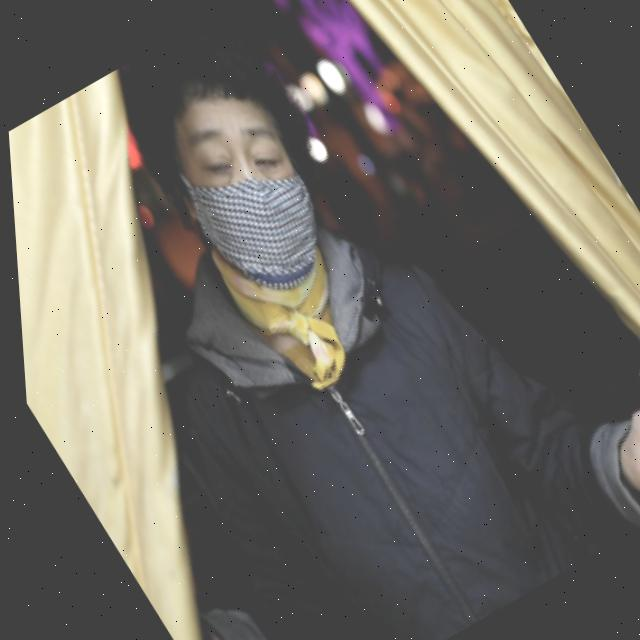Mask: (172, 129, 350, 309)
